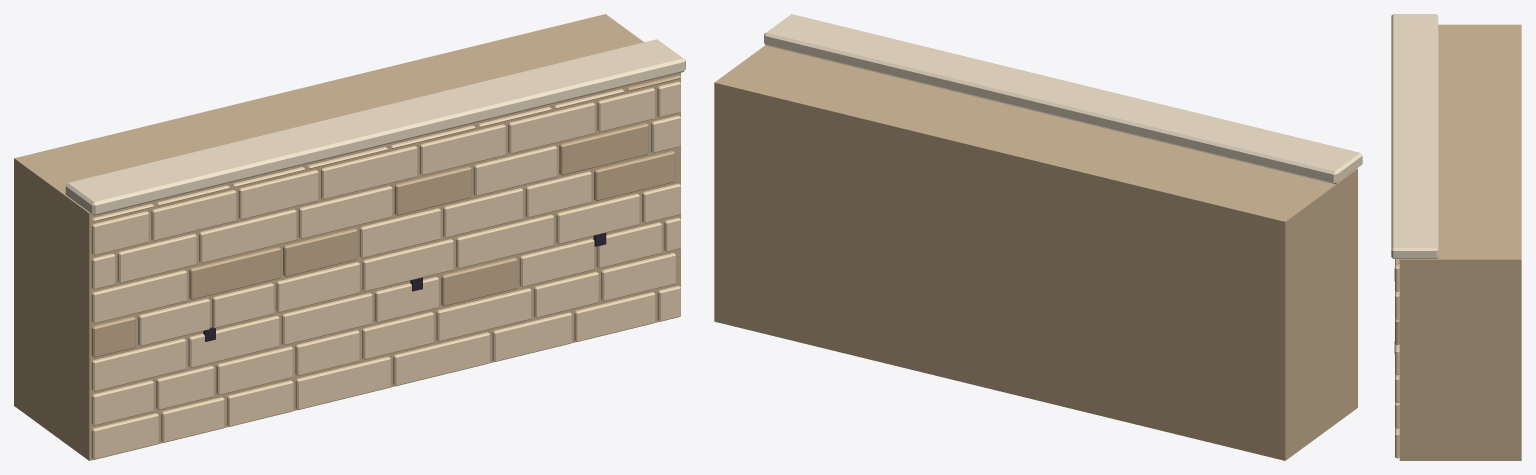
Rendered from wall_retaining.glb.
The picture shows the model from 3 angles, left to right: view 1: azimuth 30°, elevation 25°; view 2: azimuth 150°, elevation 25°; view 3: azimuth 270°, elevation 25°; orthographic projection. The views are drawn at different scales.
Parts seen in each view (by area): view 1: wall_retaining; view 2: wall_retaining; view 3: wall_retaining.
Part boxes in pixels (left/top/right/bottom): wall_retaining: left=14, top=14, right=685, bottom=460; wall_retaining: left=714, top=14, right=1362, bottom=460; wall_retaining: left=1391, top=14, right=1521, bottom=460.
Bounding box in the file's own units: 10.04 × 4.22 × 2.35.
